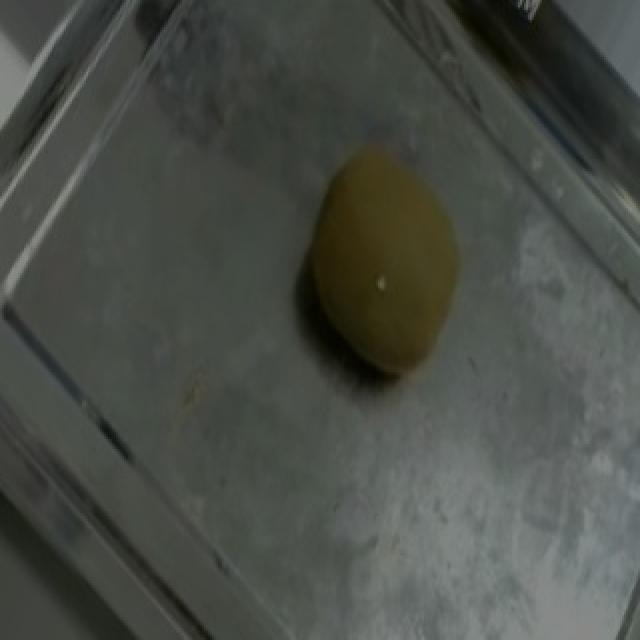Fruit: (258, 111, 504, 416)
